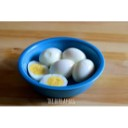begg: (28, 62, 50, 78), (56, 60, 74, 75), (78, 61, 94, 76)
